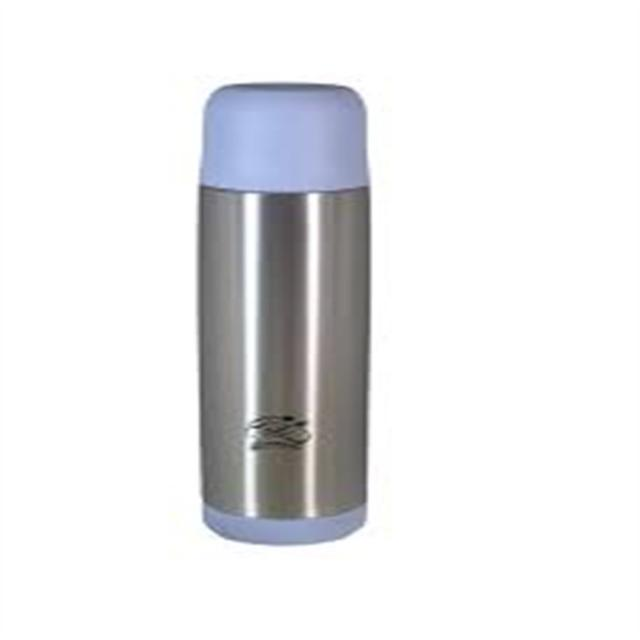Termos: (192, 81, 373, 546)
